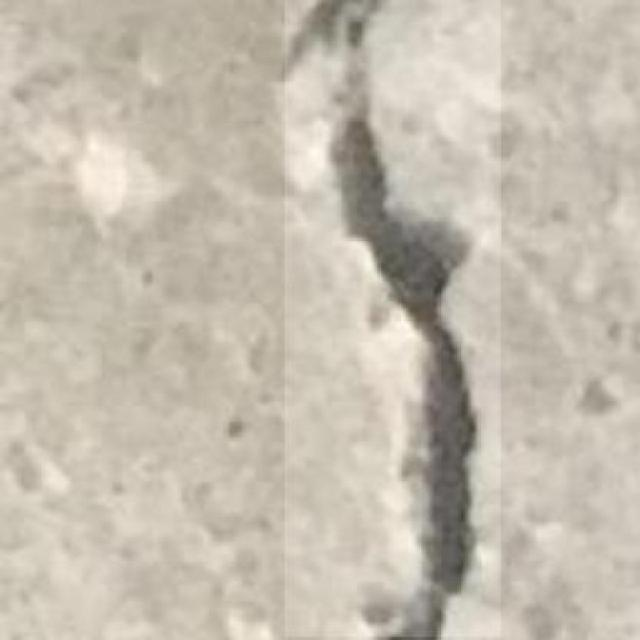Crack: (291, 0, 495, 640)
